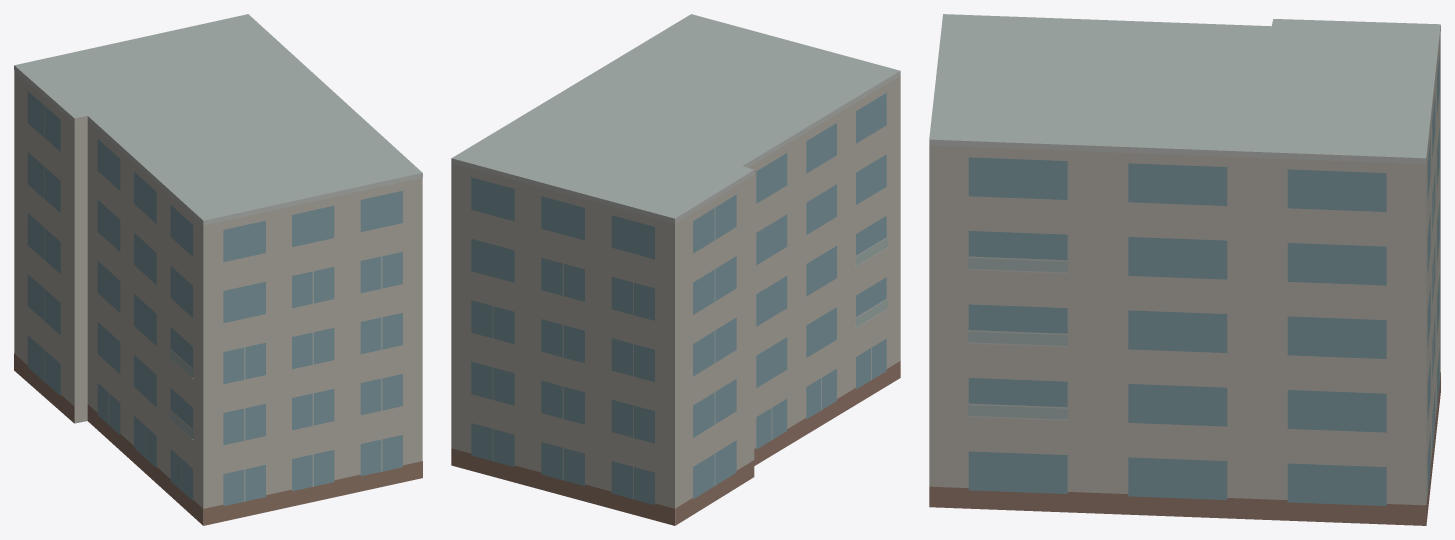
The model's file is survey-upis-32905107.glb.
3 renders of one model, left to right at view 1: azimuth 30°, elevation 25°; view 2: azimuth 150°, elevation 25°; view 3: azimuth 270°, elevation 25°, orthographic. The views are drawn at different scales.
Visible parts, largest first — view 1: survey-upis-32905107.tmp; view 2: survey-upis-32905107.tmp; view 3: survey-upis-32905107.tmp.
Part boxes in pixels (x1,y1,x2,y2): survey-upis-32905107.tmp: (14,14,422,525); survey-upis-32905107.tmp: (451,14,900,525); survey-upis-32905107.tmp: (929,14,1440,525).
Bounding box in the file's own units: 12.85 × 15.25 × 19.25.
